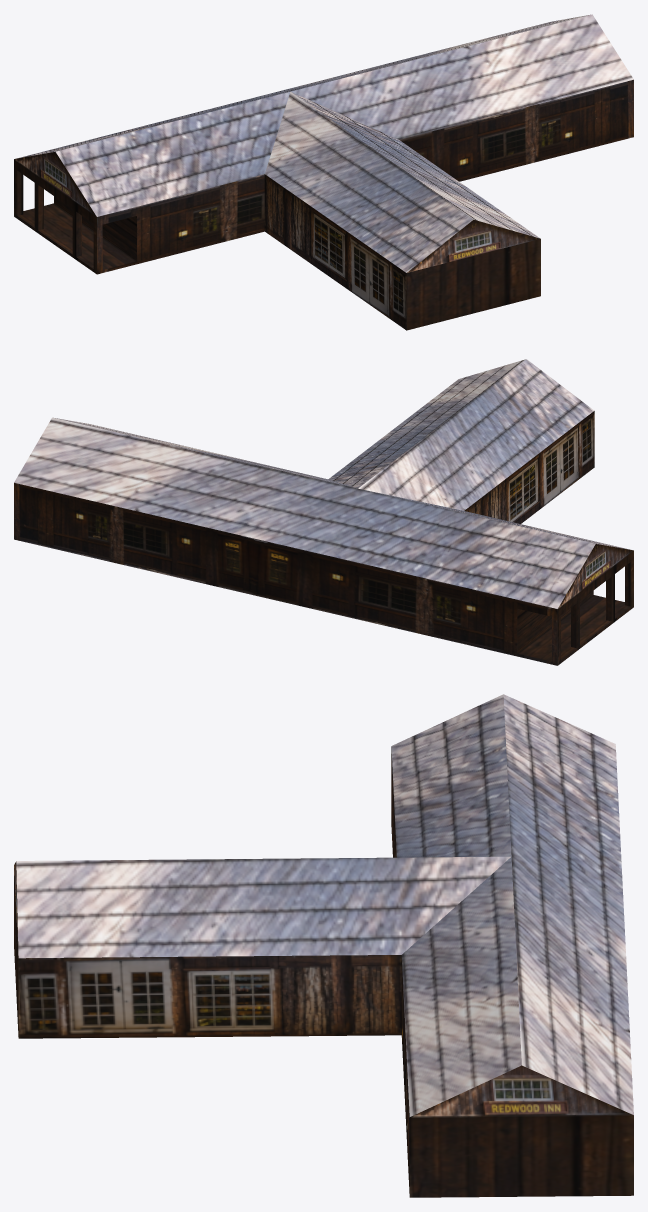
Rendered from big_basin_inn_1920s.glb.
3 views of the same model, one above another, from view 1: azimuth 30°, elevation 25°; view 2: azimuth 150°, elevation 25°; view 3: azimuth 270°, elevation 25° (orthographic). The views are drawn at different scales.
Visible parts, largest first — view 1: default_Original_Lodge_UV_Textured_0; view 2: default_Original_Lodge_UV_Textured_0; view 3: default_Original_Lodge_UV_Textured_0.
Part boxes in pixels (x1=…): default_Original_Lodge_UV_Textured_0: x1=14, y1=14, x2=633, y2=330; default_Original_Lodge_UV_Textured_0: x1=14, y1=359, x2=633, y2=665; default_Original_Lodge_UV_Textured_0: x1=14, y1=694, x2=633, y2=1197.
Size of the model in its own units: 11.34 by 1.86 by 7.96.
Materials: 1 (1 with a texture image).
